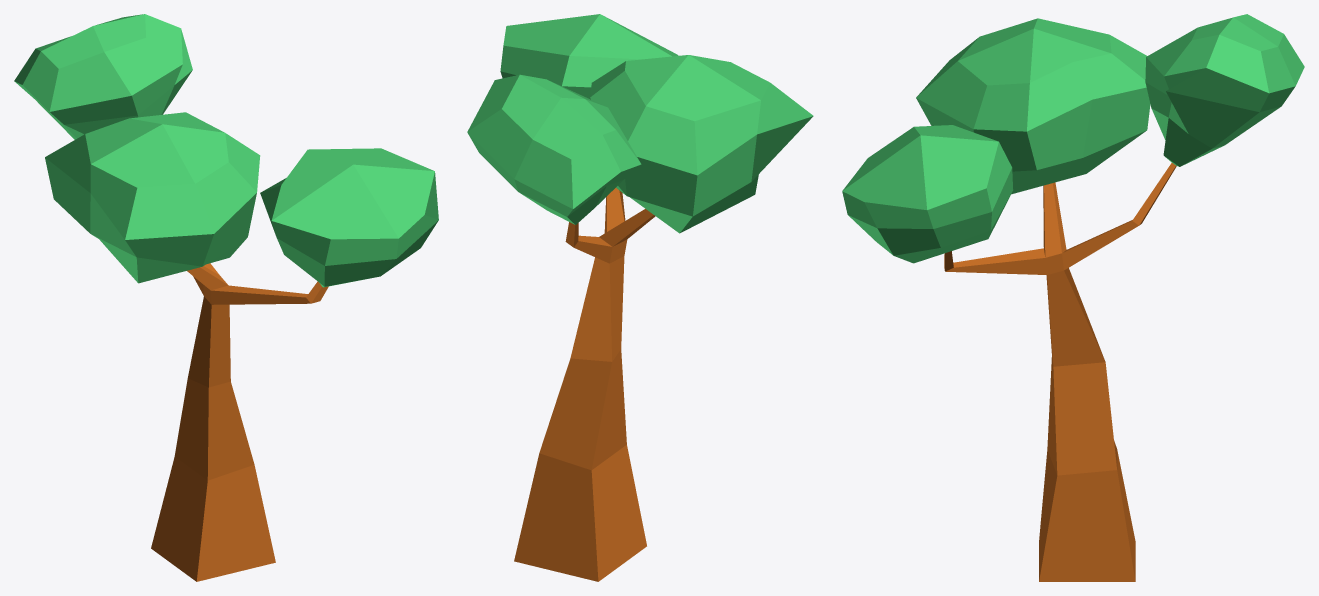
Rendered from tree1.fbx.
The picture shows the model from 3 angles, left to right: view 1: azimuth 30°, elevation 25°; view 2: azimuth 150°, elevation 25°; view 3: azimuth 270°, elevation 25°; orthographic projection. The views are drawn at different scales.
Parts seen in each view (by area): view 1: Cube; view 2: Cube; view 3: Cube.
Part boxes in pixels (box(x1,y1,x2,y2)): Cube: box(14, 14, 438, 581); Cube: box(467, 14, 813, 581); Cube: box(842, 14, 1304, 581).
Bounding box in the file's own units: 378 × 599 × 480.
